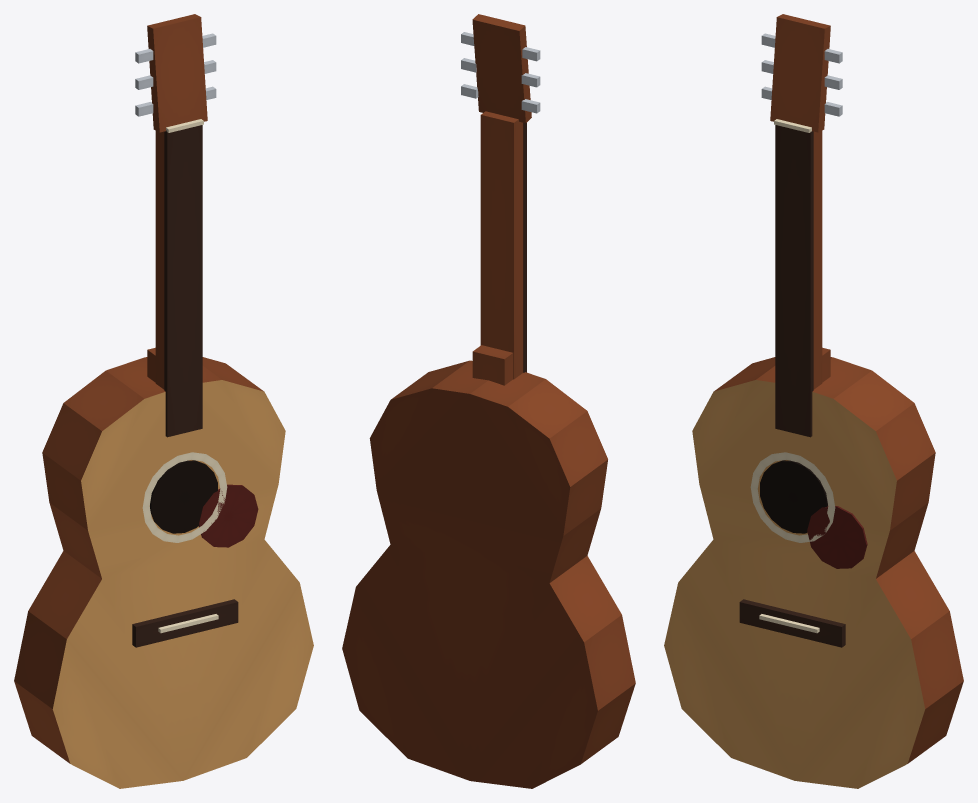
File: AcousticGuitar.fbx
3 views of the same model, side by side, from view 1: azimuth 30°, elevation 25°; view 2: azimuth 150°, elevation 25°; view 3: azimuth 330°, elevation 25° (orthographic). The views are drawn at different scales.
Parts seen in each view (by area): view 1: AcousticGuitar; view 2: AcousticGuitar; view 3: AcousticGuitar.
Part boxes in pixels (x1,y1,x2,y2): AcousticGuitar: [14, 14, 313, 788]; AcousticGuitar: [342, 14, 635, 788]; AcousticGuitar: [664, 14, 963, 788].
Bounding box in the file's own units: 0.37 × 1.02 × 0.1105.
Materials: 1 (1 with a texture image).
